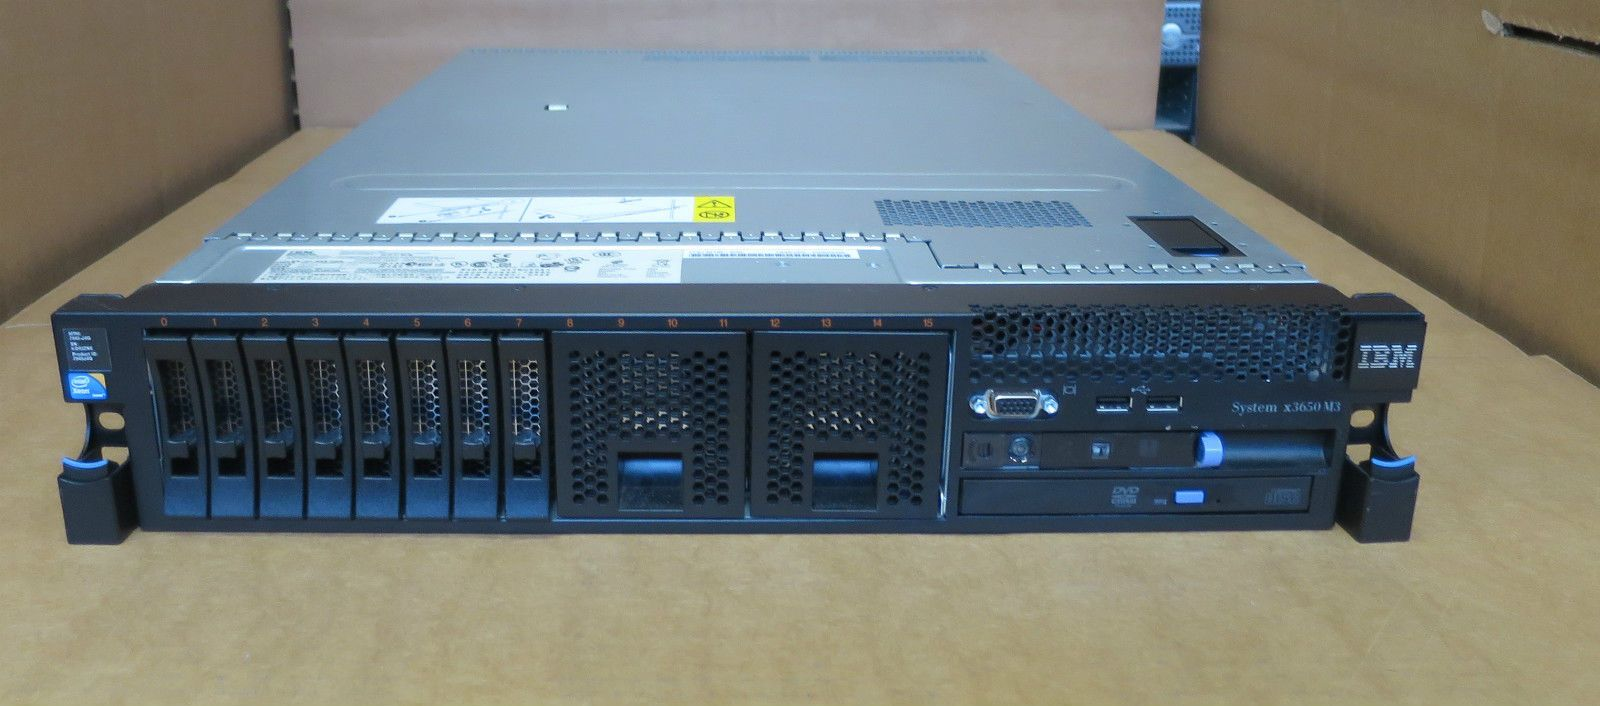Server: (61, 34, 1526, 635)
